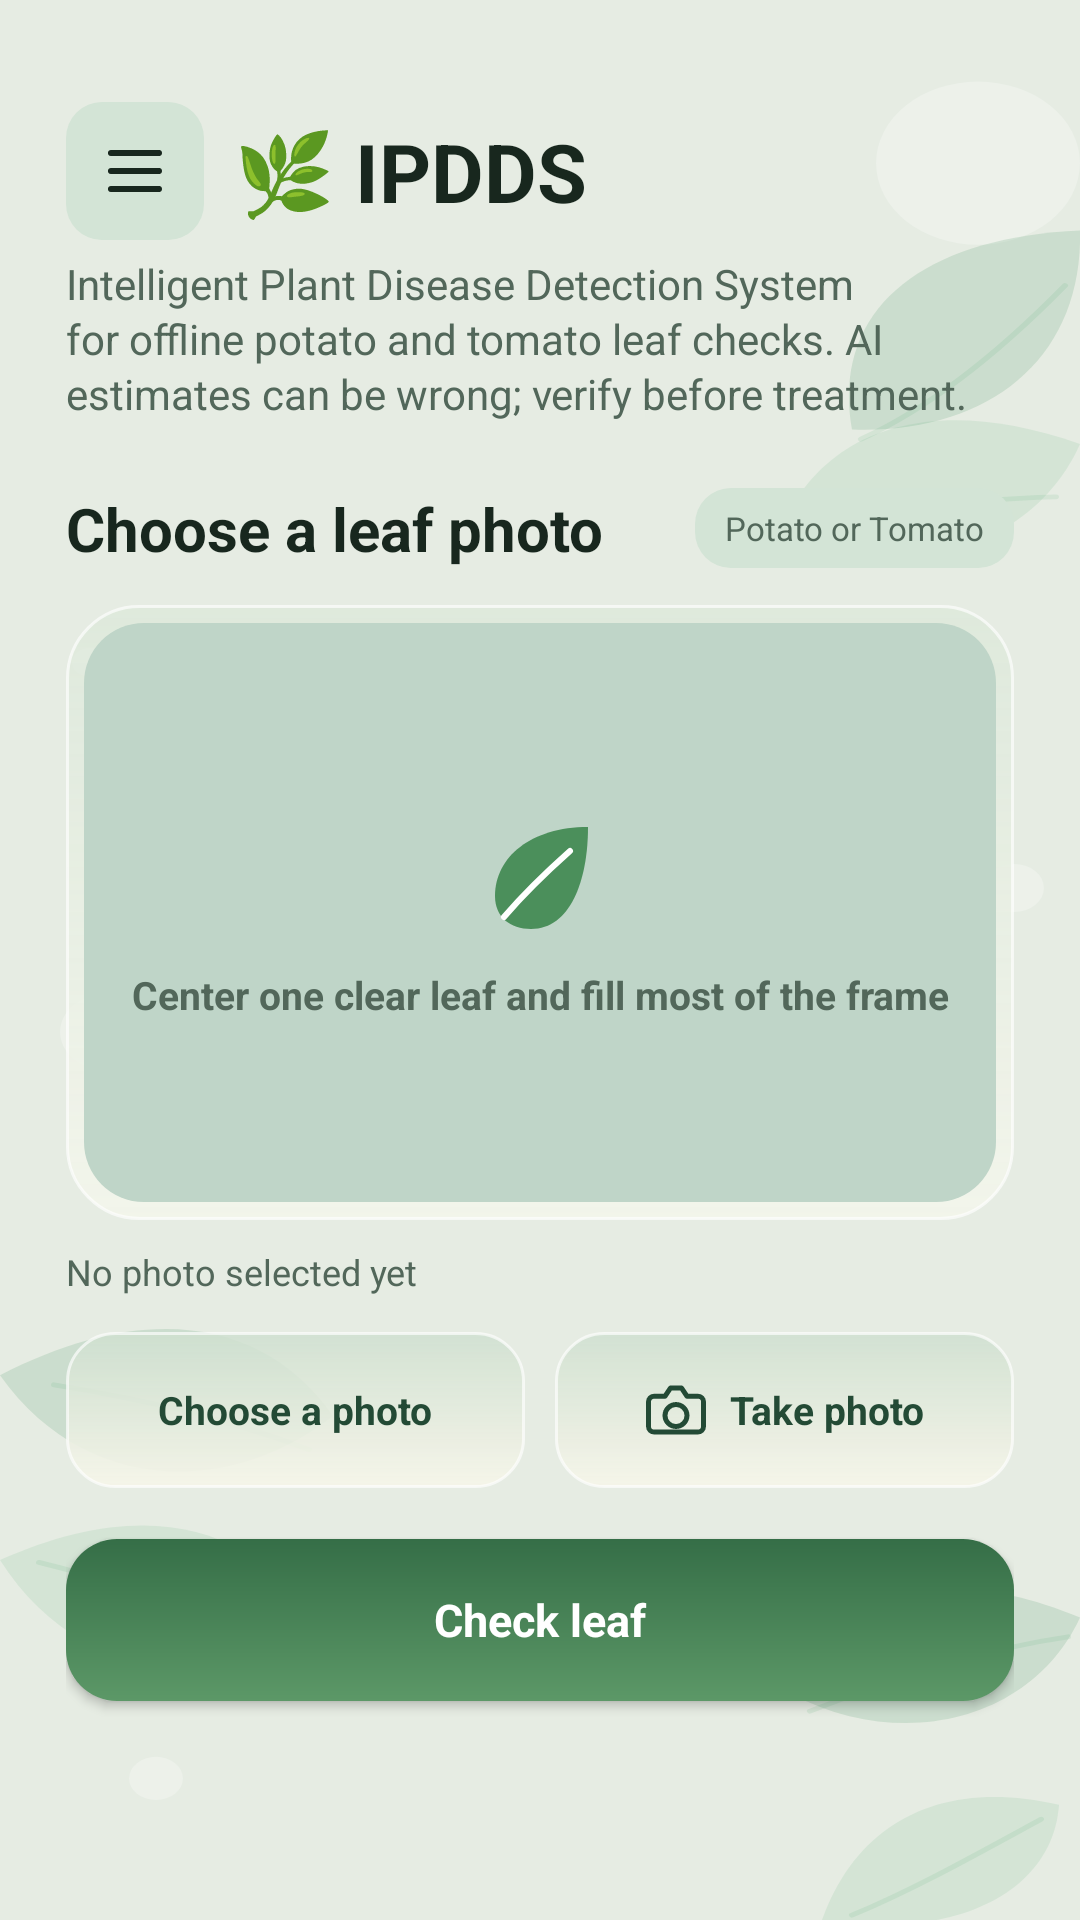

Named icons in this screenshot (1080×1920) and their centers, (x=x, y=y):
camera: (x=676, y=1406)
Open navigation menu: (x=135, y=171)
